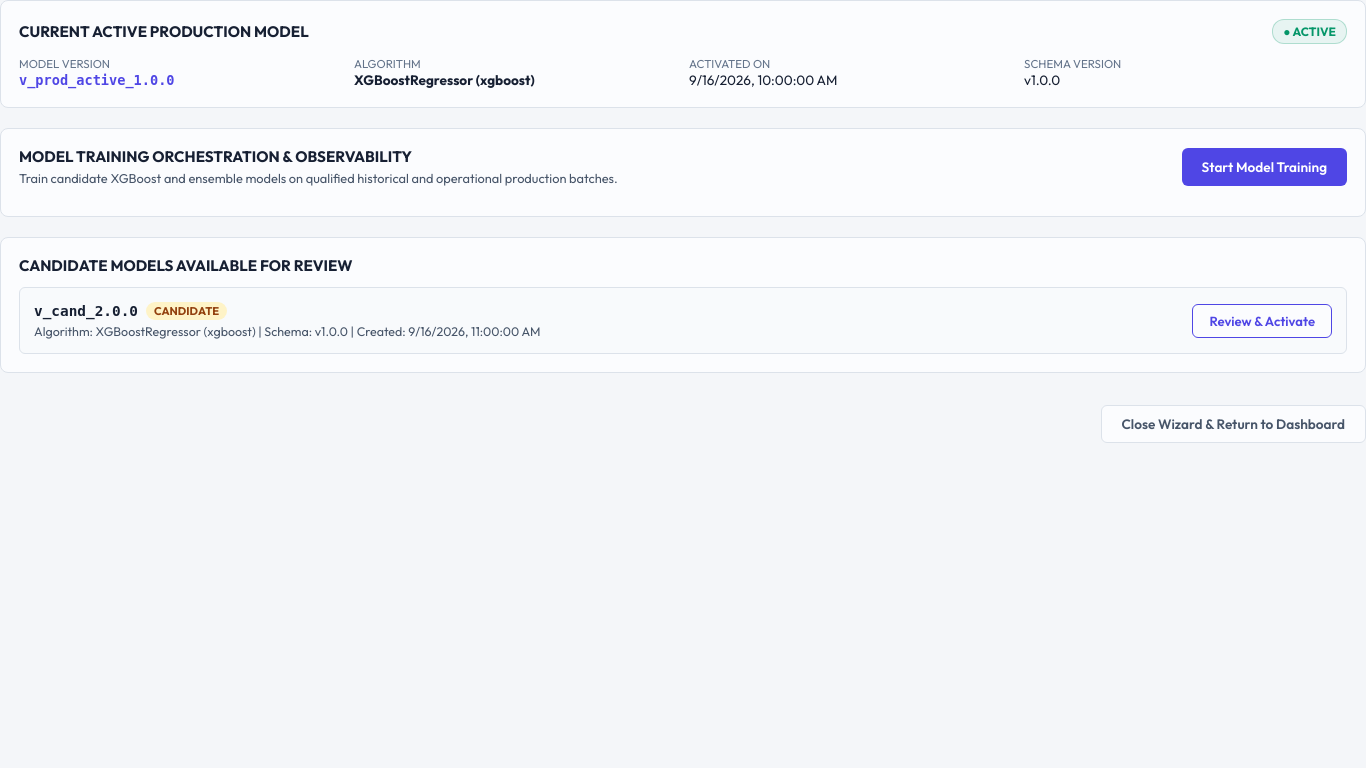
Step6ModelTraining Component — Phase 13F / ML-6 Frontend Verification › 6. Explicit activation requires confirmation dialog and reason input
Later steps or results of the test are not shown.
What coordinates should you click on to do the following:
click the button "Review & Activate"
I would click on:
 (1262, 320)
Its box is [1192,304,1332,338].
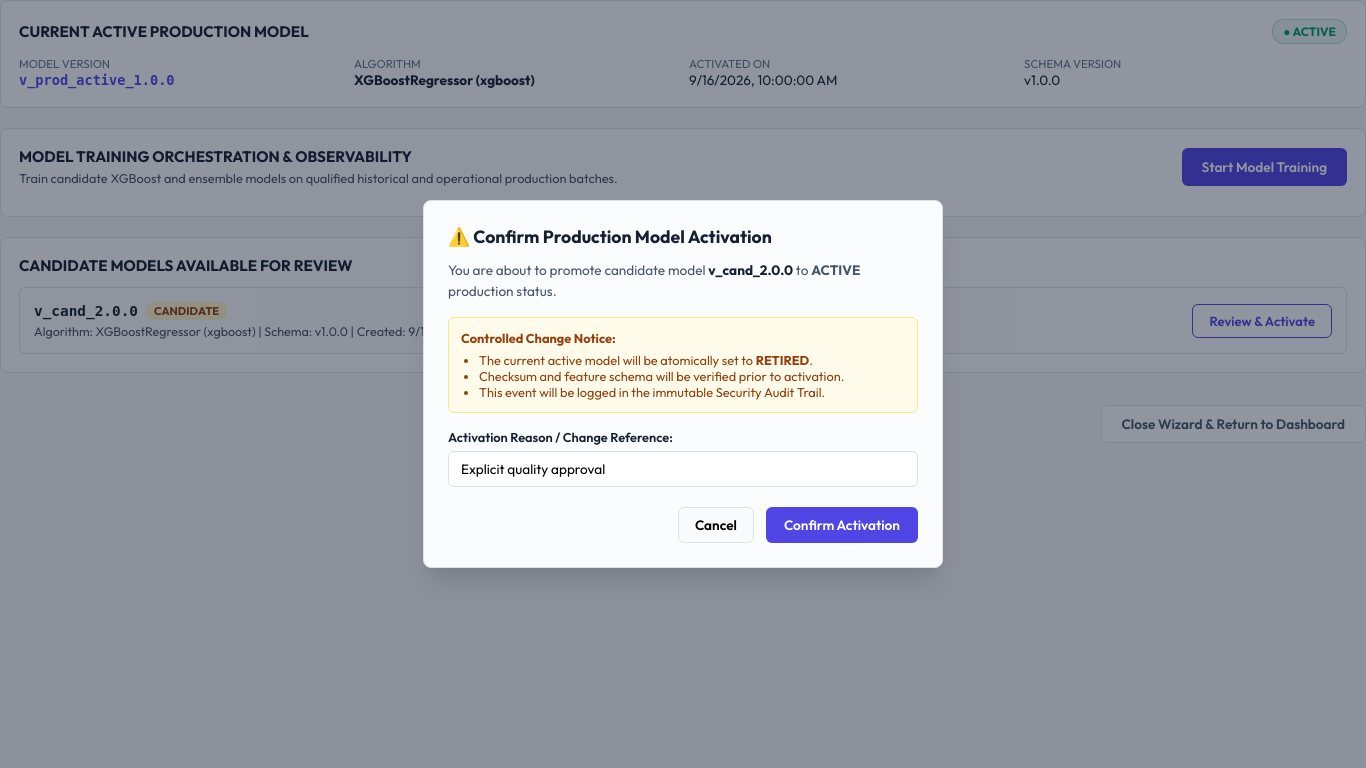
Expected: the heading "⚠️ Confirm Production Model Activation" is shown, [448,225,772,248]
